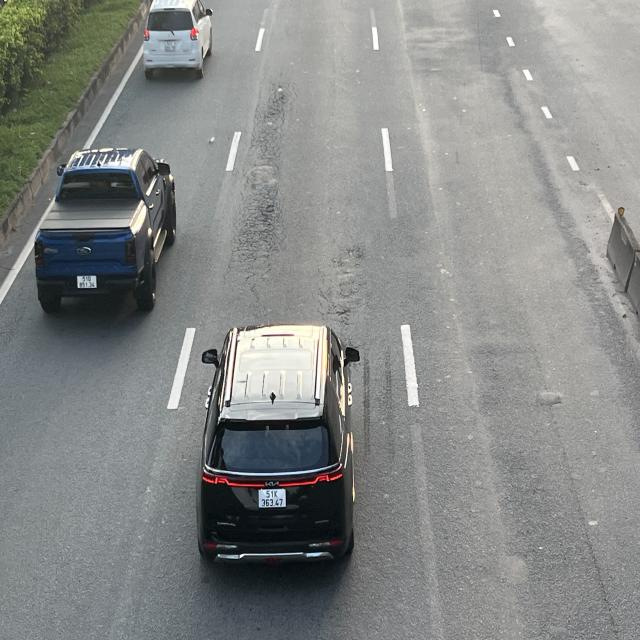car: (198, 322, 363, 573), (34, 149, 180, 320), (142, 2, 212, 82)
